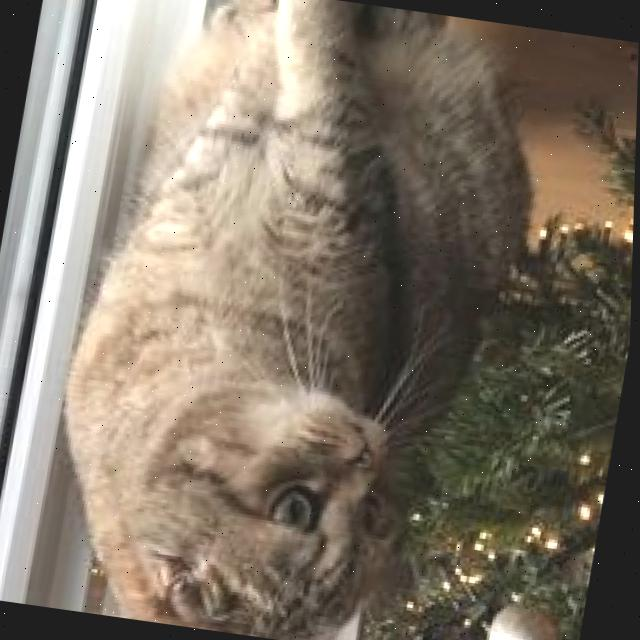Scottish Fold: (20, 0, 568, 640)
